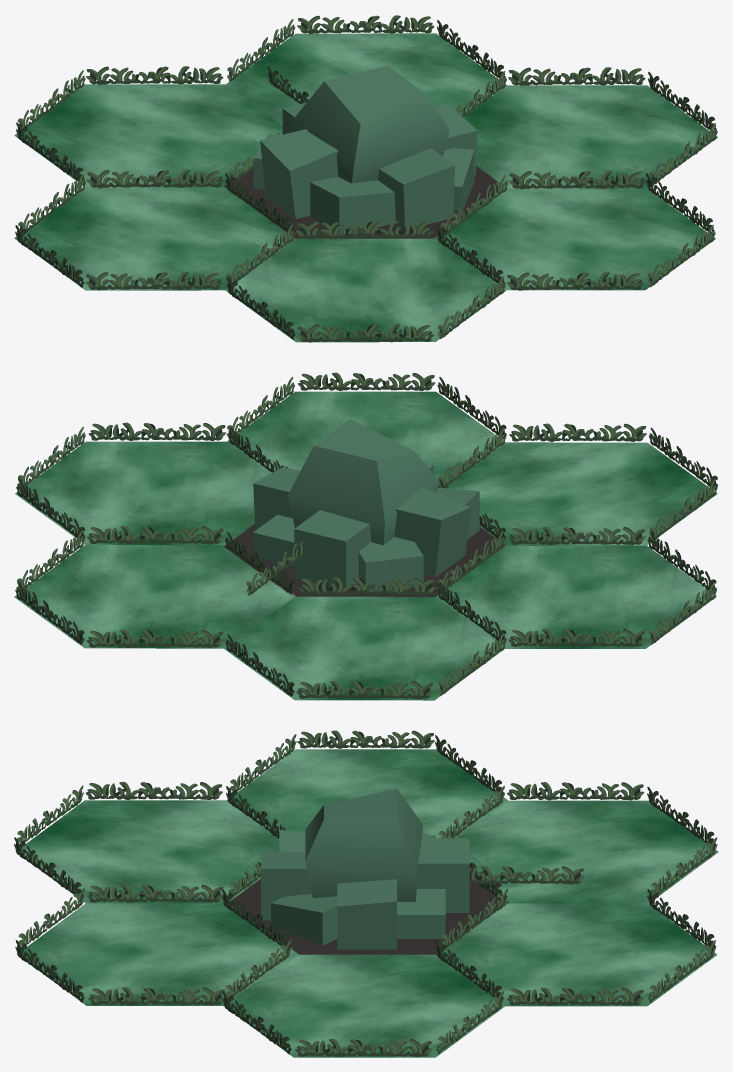
File: Pitch_Test 1.fbx
The picture shows the model from 3 angles, top to bottom: view 1: azimuth 30°, elevation 25°; view 2: azimuth 150°, elevation 25°; view 3: azimuth 270°, elevation 25°; orthographic projection.
Visible parts, largest first — view 1: pCube28, pPlane38, pPlane34, pPlane35, polySurface1, pPlane37, pPlane36, pPlane40, polySurface2, polySurface9, polySurface8, polySurface11 (+22 smaller); view 2: pCube28, pPlane36, pPlane35, pPlane34, pPlane38, pPlane37, polySurface1, pPlane40, polySurface26, polySurface23, polySurface28, polySurface24 (+23 smaller); view 3: pCube28, pPlane37, pPlane36, pPlane35, pPlane38, polySurface1, pPlane34, pPlane40, polySurface4, polySurface18, polySurface29, polySurface13 (+22 smaller).
Part boxes in pixels (x1,y1,x2,y2): pCube28: [253, 65, 477, 233]; pPlane38: [225, 238, 505, 342]; pPlane34: [14, 187, 294, 290]; pPlane35: [14, 84, 282, 187]; polySurface1: [434, 186, 715, 290]; pPlane37: [463, 85, 717, 188]; pPlane36: [225, 33, 506, 125]; pPlane40: [224, 166, 504, 238]; polySurface2: [506, 272, 643, 290]; polySurface9: [297, 15, 434, 33]; polySurface8: [86, 66, 223, 84]; polySurface11: [85, 271, 222, 290]; pCube28: [253, 419, 479, 592]; pPlane36: [14, 544, 295, 648]; pPlane35: [224, 596, 505, 700]; pPlane34: [436, 545, 716, 648]; pPlane38: [445, 442, 717, 546]; pPlane37: [15, 441, 270, 545]; polySurface1: [227, 391, 505, 487]; pPlane40: [223, 524, 505, 597]; polySurface26: [298, 577, 435, 595]; polySurface23: [509, 423, 646, 441]; polySurface28: [86, 629, 223, 647]; polySurface24: [508, 526, 645, 545]; pCube28: [261, 788, 469, 949]; pPlane37: [224, 954, 505, 1057]; pPlane36: [435, 903, 717, 1006]; pPlane35: [455, 800, 718, 903]; pPlane38: [15, 800, 279, 903]; polySurface1: [17, 903, 298, 1005]; pPlane34: [226, 749, 507, 838]; pPlane40: [229, 878, 509, 954]; polySurface4: [88, 987, 224, 1005]; polySurface18: [297, 730, 434, 748]; polySurface29: [507, 782, 644, 800]; polySurface13: [295, 1038, 432, 1056].
Bounding box in the file's own units: 182 × 29.37 × 176.
